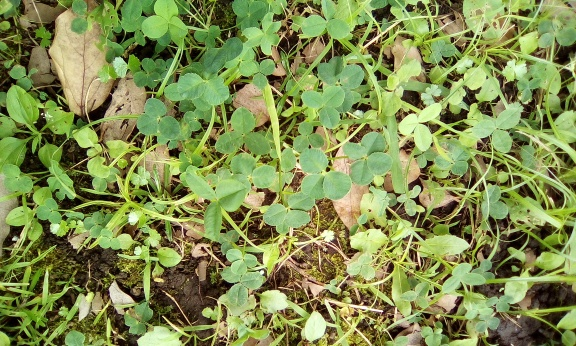4leaf: (342, 131, 393, 186)
